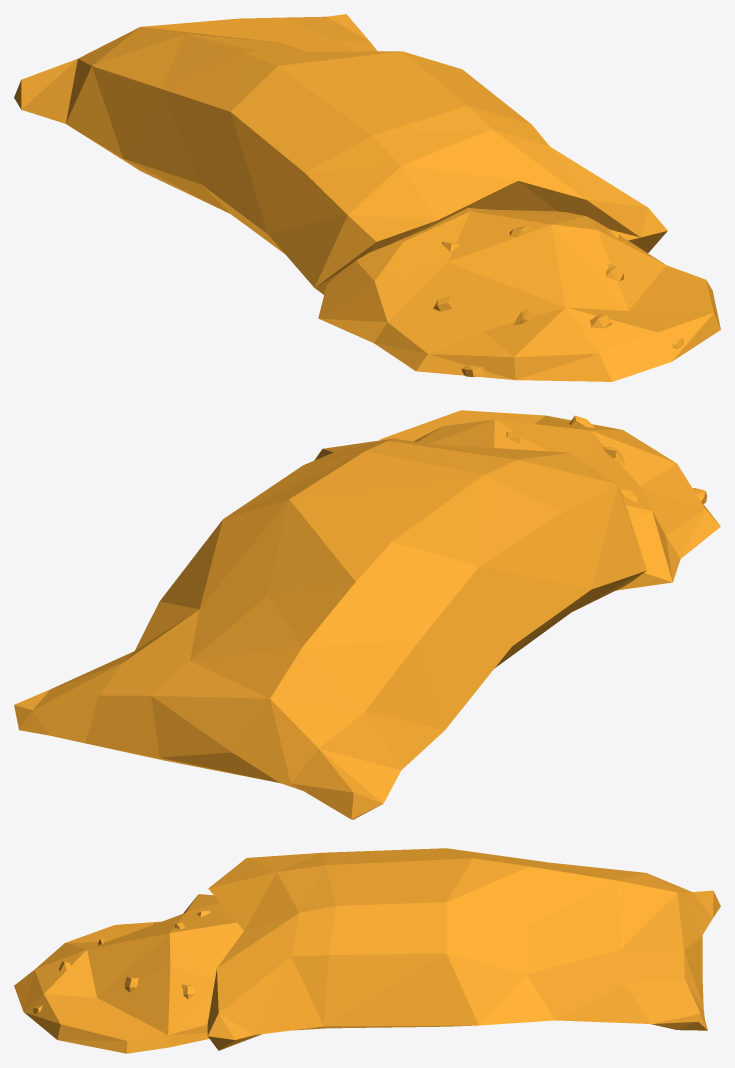
File: SM_Bag_Lying_Spilled_B_Farm.fbx
The picture shows the model from 3 angles, top to bottom: view 1: azimuth 30°, elevation 25°; view 2: azimuth 150°, elevation 25°; view 3: azimuth 270°, elevation 25°; orthographic projection. The views are drawn at different scales.
Visible parts, largest first — view 1: bag-lying-spilled-b-farm; view 2: bag-lying-spilled-b-farm; view 3: bag-lying-spilled-b-farm.
Part boxes in pixels (x1=…): bag-lying-spilled-b-farm: x1=14, y1=14, x2=720, y2=381; bag-lying-spilled-b-farm: x1=14, y1=410, x2=720, y2=819; bag-lying-spilled-b-farm: x1=14, y1=848, x2=720, y2=1053.
Size of the model in its own units: 0.617 by 0.2282 by 1.29.
